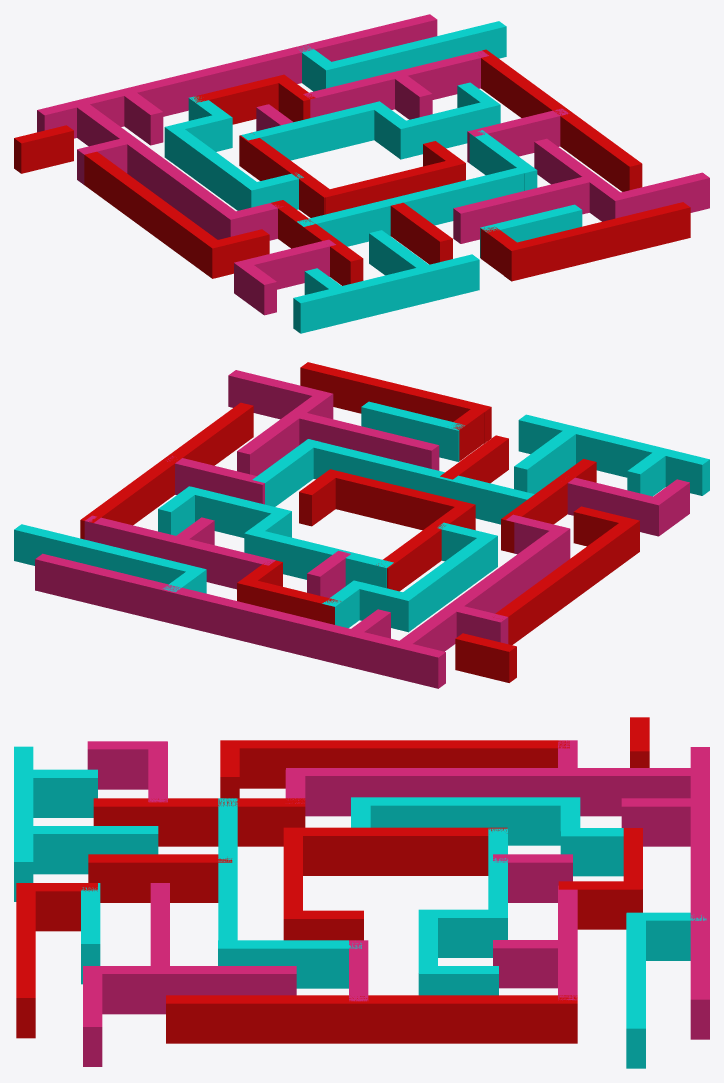
Rendered from asset.glb.
The picture shows the model from 3 angles, top to bottom: view 1: azimuth 30°, elevation 25°; view 2: azimuth 150°, elevation 25°; view 3: azimuth 270°, elevation 25°; orthographic projection. The views are drawn at different scales.
Parts seen in each view (by area): view 1: Cube.036, Cube.083, Cube.084, Cube.108, Cube.105, Cube.111, Cube.069, Cube.054, Cube.068, Cube.075, Cube.081, Cube.074 (+31 smaller); view 2: Cube.036, Cube.105, Cube.069, Cube.108, Cube.111, Cube.084, Cube.068, Cube.083, Cube.054, Cube.074, Cube.081, Cube.075 (+31 smaller); view 3: Cube.108, Cube.111, Cube.105, Cube.109, Cube.106, Cube.107, Cube.110, Cube.103, Cube.036, Cube.102, Cube.104, Cube.093 (+31 smaller).
Part boxes in pixels (left/top/right/bottom): Cube.036: left=37, top=14, right=437, bottom=138; Cube.083: left=504, top=202, right=690, bottom=281; Cube.084: left=293, top=254, right=479, bottom=333; Cube.108: left=481, top=49, right=642, bottom=191; Cube.105: left=84, top=151, right=225, bottom=278; Cube.111: left=72, top=100, right=242, bottom=239; Cube.069: left=297, top=165, right=528, bottom=246; Cube.054: left=321, top=21, right=506, bottom=87; Cube.068: left=303, top=50, right=488, bottom=117; Cube.075: left=241, top=101, right=384, bottom=160; Cube.081: left=453, top=175, right=599, bottom=243; Cube.074: left=319, top=161, right=464, bottom=214; Cube.036: left=35, top=553, right=445, bottom=688; Cube.105: left=493, top=517, right=639, bottom=644; Cube.069: left=304, top=440, right=534, bottom=524; Cube.108: left=80, top=402, right=253, bottom=539; Cube.111: left=394, top=525, right=570, bottom=651; Cube.084: left=518, top=414, right=709, bottom=495; Cube.068: left=84, top=515, right=275, bottom=589; Cube.083: left=300, top=362, right=491, bottom=443; Cube.054: left=14, top=524, right=204, bottom=584; Cube.074: left=324, top=469, right=473, bottom=530; Cube.081: left=289, top=410, right=439, bottom=470; Cube.075: left=244, top=530, right=393, bottom=588; Cube.108: left=166, top=995, right=577, bottom=1043; Cube.111: left=286, top=768, right=703, bottom=816; Cube.105: left=220, top=740, right=569, bottom=788; Cube.109: left=283, top=827, right=507, bottom=875; Cube.106: left=93, top=798, right=305, bottom=846; Cube.107: left=85, top=966, right=296, bottom=1014; Cube.110: left=366, top=797, right=566, bottom=845; Cube.103: left=88, top=854, right=232, bottom=902; Cube.036: left=690, top=747, right=709, bottom=1039; Cube.102: left=14, top=826, right=158, bottom=874; Cube.104: left=218, top=940, right=361, bottom=988; Cube.093: left=493, top=940, right=572, bottom=988.
Bounding box in the file's own units: 2.17 × 0.1305 × 2.05.
